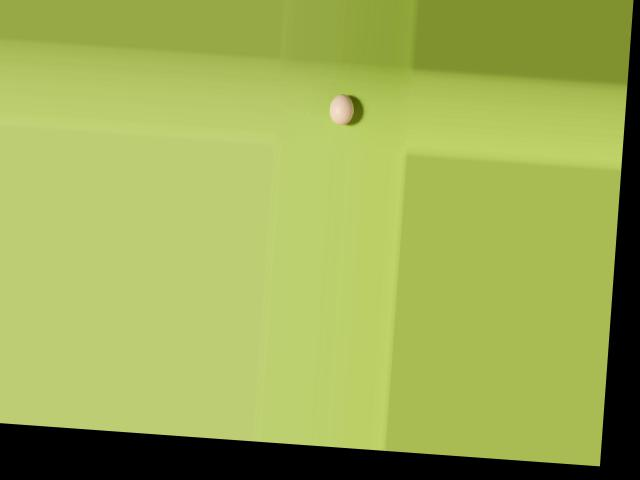egg: (329, 92, 355, 125)
